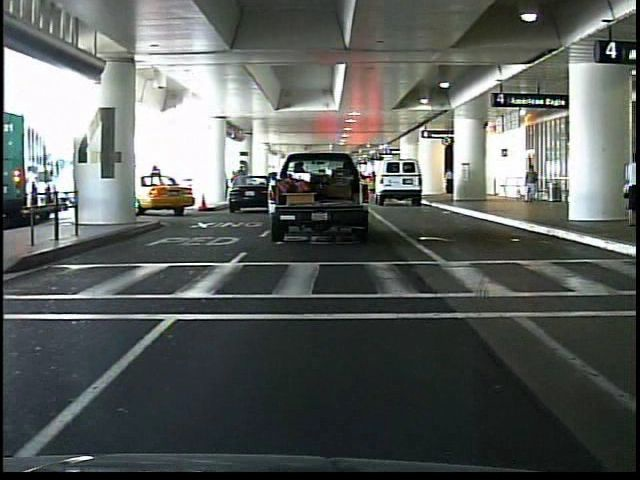person: (621, 149, 639, 231), (522, 158, 542, 207), (442, 166, 456, 199)
